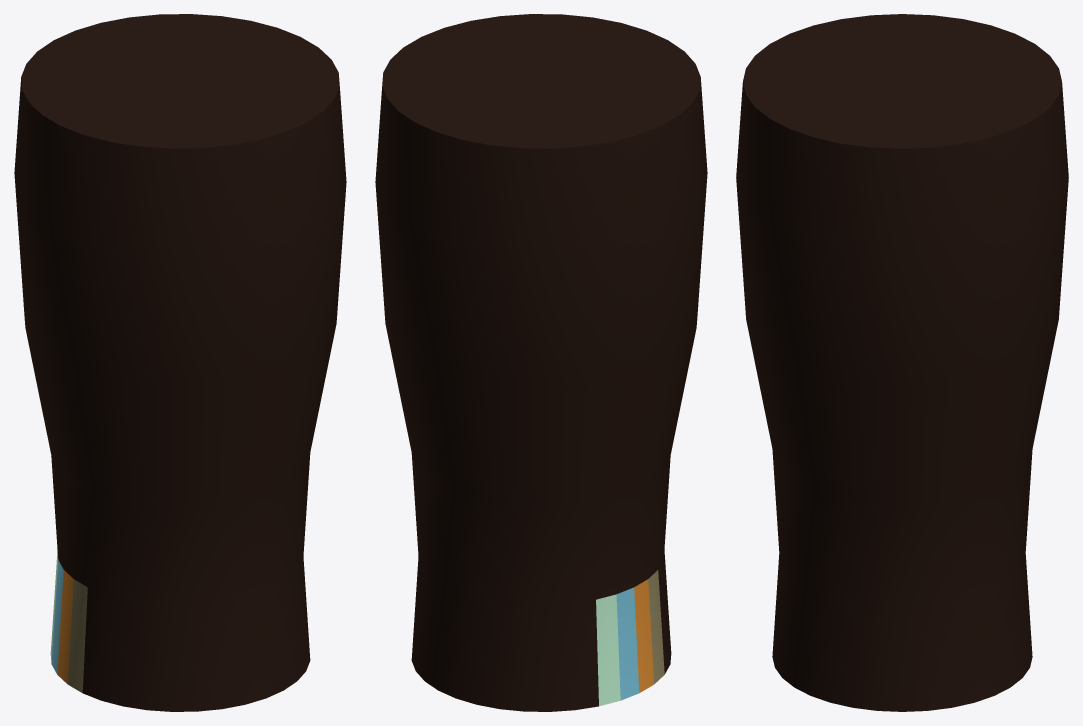
The model's file is SM_PintGlass_Liquid.fbx.
3 renders of one model, left to right at view 1: azimuth 30°, elevation 25°; view 2: azimuth 150°, elevation 25°; view 3: azimuth 270°, elevation 25°, orthographic.
Parts seen in each view (by area): view 1: SM_PintGlass_Liquid; view 2: SM_PintGlass_Liquid; view 3: SM_PintGlass_Liquid.
Boxes of the visible parts, x1,y1,x2,y2 form: SM_PintGlass_Liquid: (14,14,346,711); SM_PintGlass_Liquid: (375,14,707,711); SM_PintGlass_Liquid: (736,14,1068,711).
Bounding box in the file's own units: 6.88 × 13.13 × 6.88.
